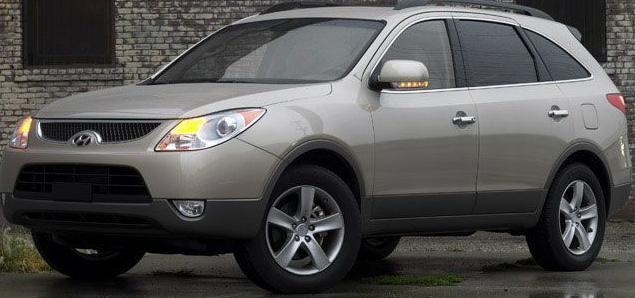front_view: (0, 106, 271, 253)
headlight: (158, 108, 267, 156)
side_glass: (364, 13, 596, 98)
